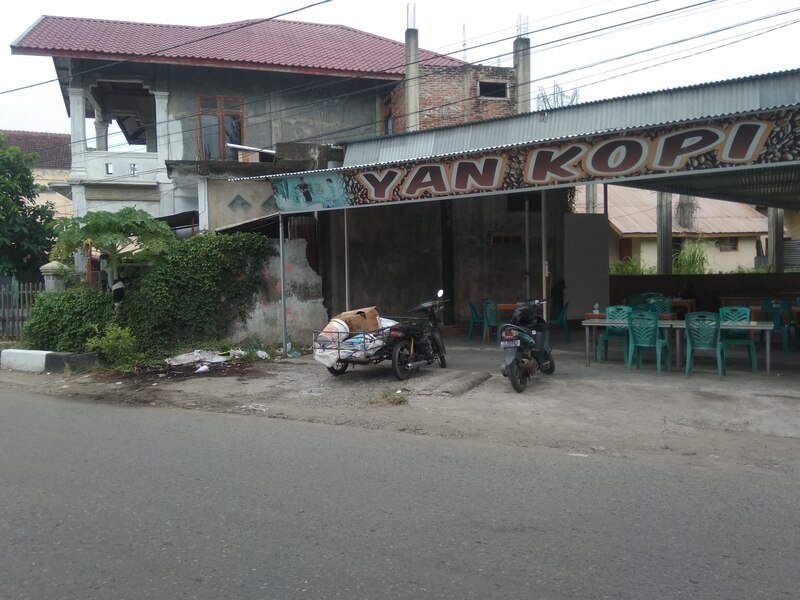becak barang: (311, 289, 453, 381)
